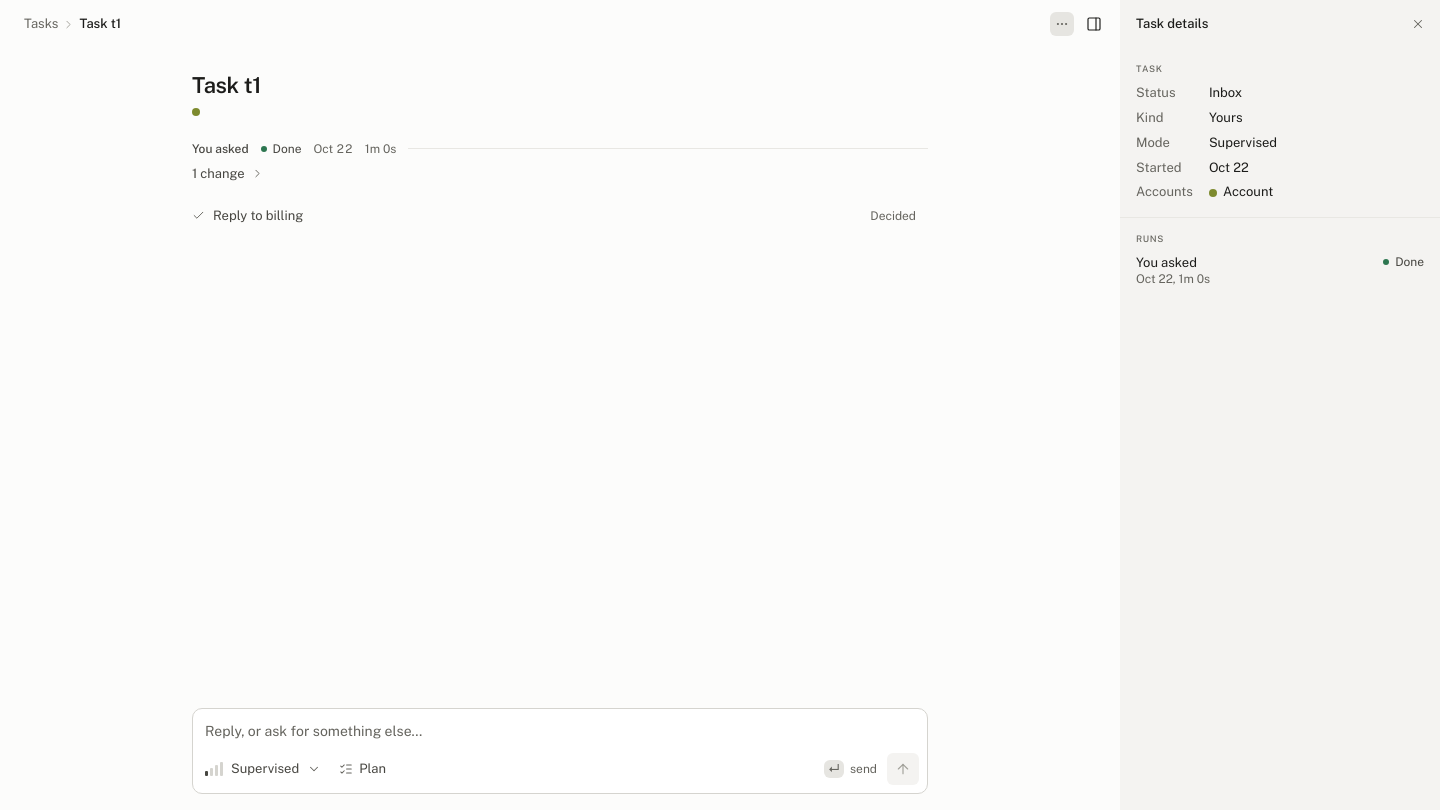
R5-6 approvals need the record › R5-14: a proposed record is pending even when the task omits pendingActionIds
Click the button "1 change". click: (231, 174)
box: top-left (192, 162), bottom-right (270, 186)
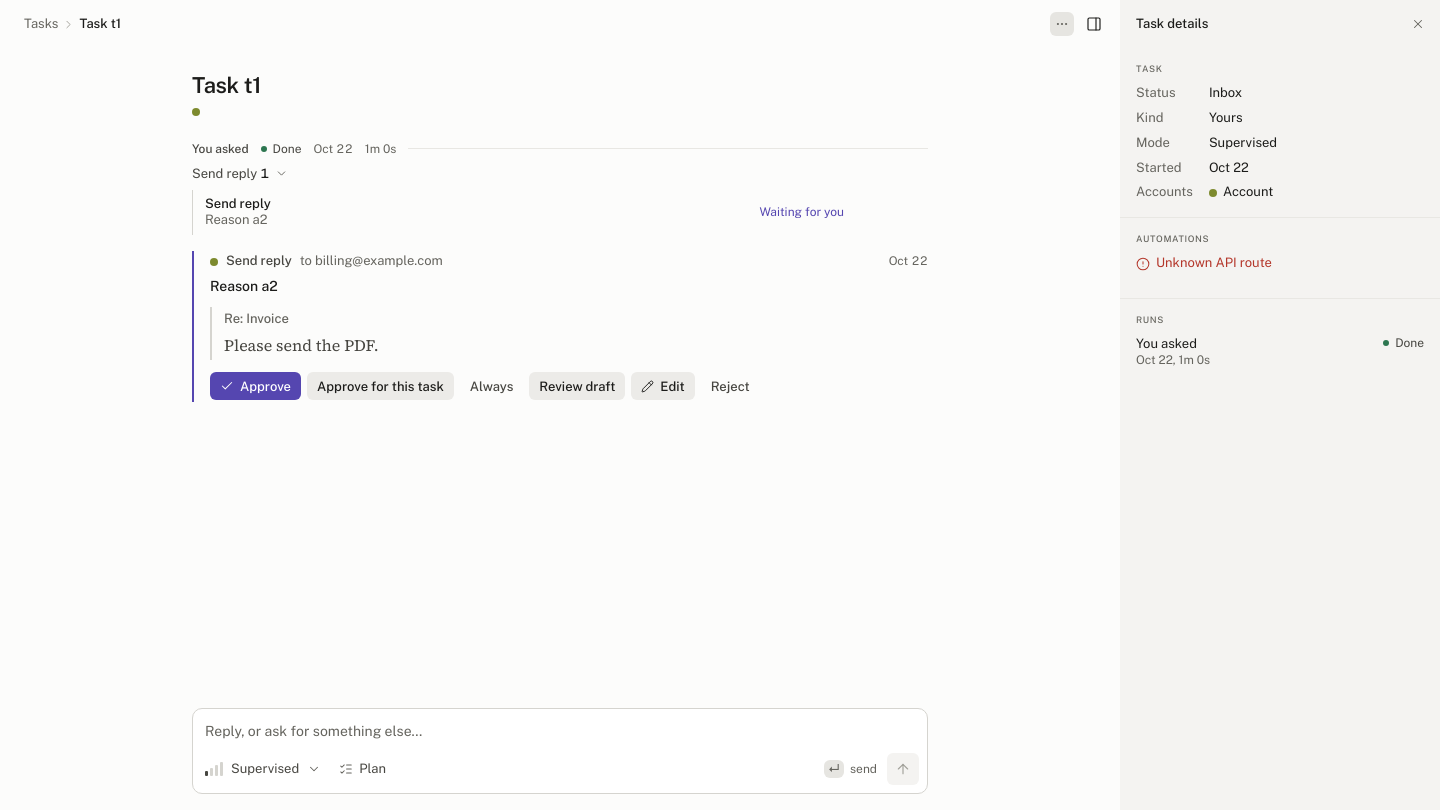
Expected: the element "Reason a2" is shown, top-left (192, 251), bottom-right (928, 402)
